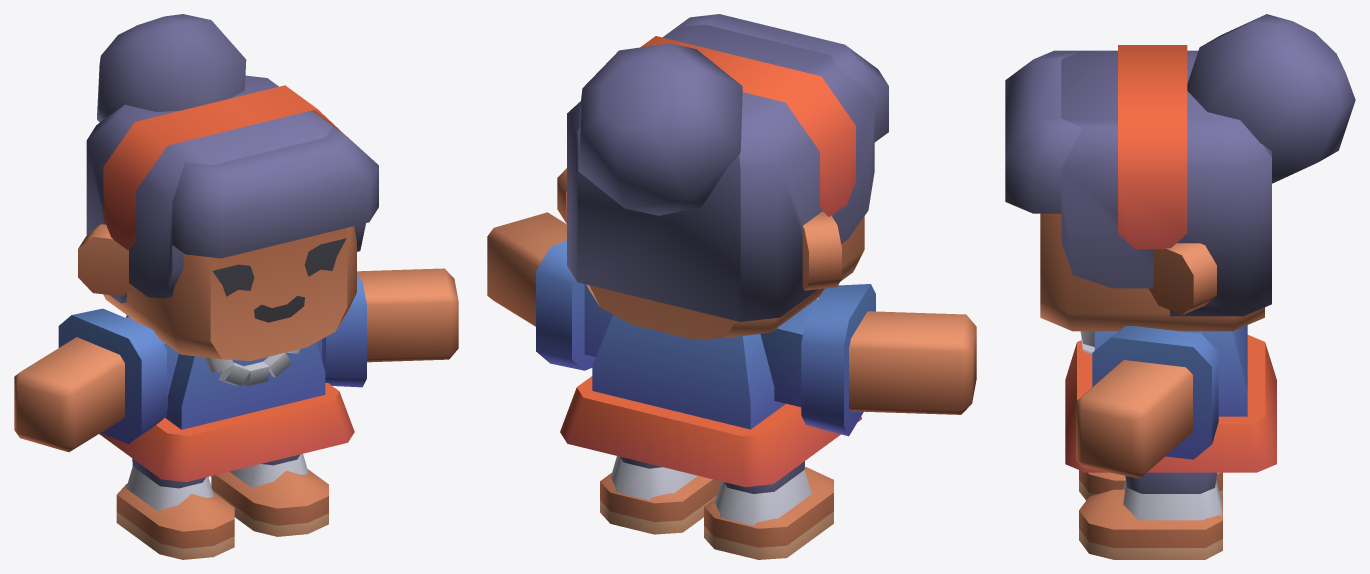
File: character-female-c.obj
3 renders of one model, left to right at view 1: azimuth 30°, elevation 25°; view 2: azimuth 150°, elevation 25°; view 3: azimuth 270°, elevation 25°, orthographic. The views are drawn at different scales.
Parts seen in each view (by area): view 1: head-mesh, body-mesh; view 2: head-mesh, body-mesh; view 3: head-mesh, body-mesh.
Boxes of the visible parts, x1,y1,x2,y2 form: head-mesh: [78, 14, 378, 360]; body-mesh: [14, 268, 458, 559]; head-mesh: [557, 14, 888, 339]; body-mesh: [487, 212, 976, 559]; head-mesh: [1005, 14, 1355, 331]; body-mesh: [1065, 325, 1276, 559].
Bounding box in the file's own units: 0.7672 × 0.7755 × 0.4995.
Materials: 1 (1 with a texture image).
